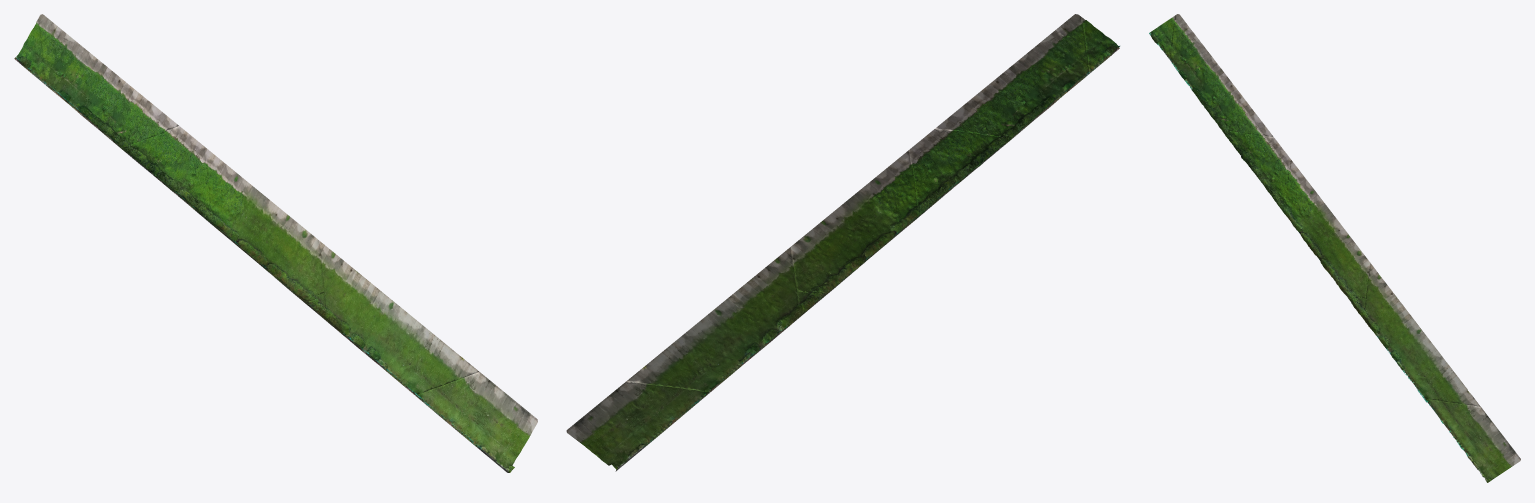
Rendered from BlockR.obj.
3 renders of one model, left to right at view 1: azimuth 30°, elevation 25°; view 2: azimuth 150°, elevation 25°; view 3: azimuth 330°, elevation 25°, orthographic. The views are drawn at different scales.
Size of the model in its own units: 124 by 129 by 4.82.
29 materials, 29 textured.
